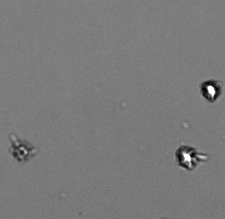Dead Cell: (12, 141, 32, 163)
Living Cell: (176, 146, 196, 170), (200, 80, 221, 102)
